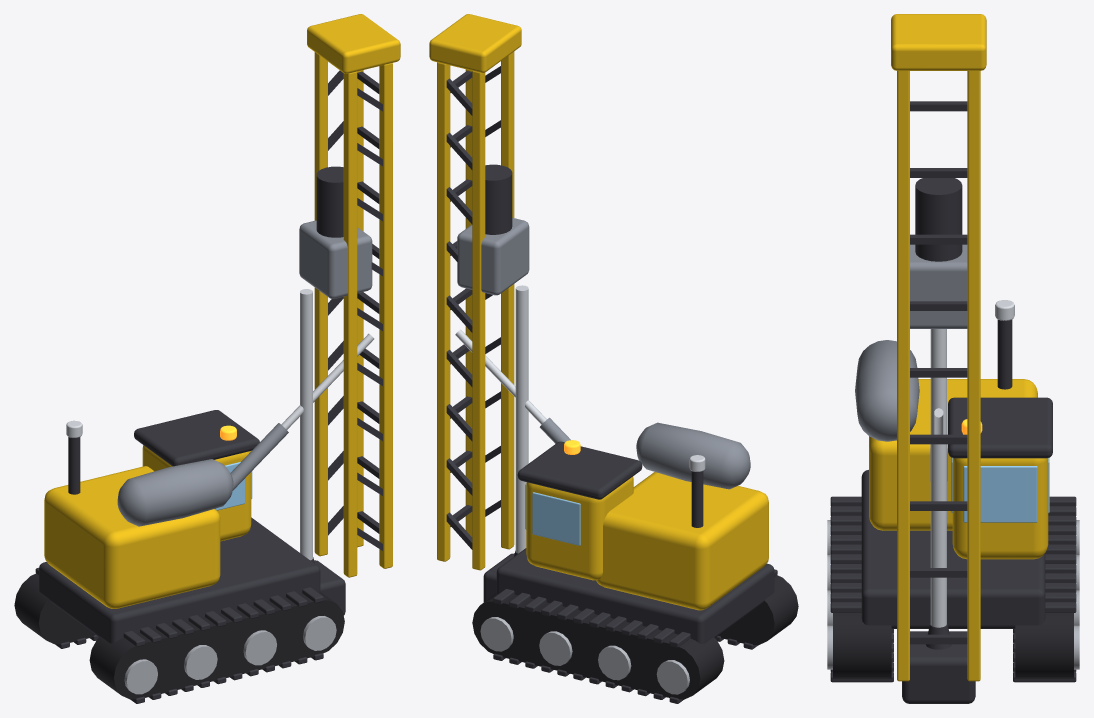
Rendered from vehicle_drill_rig.glb.
3 renders of one model, left to right at view 1: azimuth 30°, elevation 25°; view 2: azimuth 150°, elevation 25°; view 3: azimuth 270°, elevation 25°, orthographic. The views are drawn at different scales.
Visible parts, largest first — view 1: Engine, Deck, Track.Belt, Mast.Rail, Mast.Rail.001, Tank, Mast.Rail.002, Cab.Roof, Mast.Crown, Mast.RotaryHead, Mast.Rod, Track.Belt.001 (+16 smaller); view 2: Engine, Track.Belt.001, Deck, Mast.Rail.002, Mast.Rail.003, Mast.Rail, Tank, Cab.Shell, Cab.Roof, Mast.Crown, Mast.RotaryHead, Mast.Rod (+15 smaller); view 3: Deck, Mast.Rail.003, Mast.Rail.001, Engine, Mast.Rung, Mast.Crown, Cab.Roof, Cab.Shell, Tank, Mast.Rod, DustHood, Track.Pad (+9 smaller).
Part boxes in pixels (x1,y1,x2,y2): Engine: (44,466,220,608); Deck: (39,517,320,643); Track.Belt: (89,592,344,699); Mast.Rail: (343,71,357,577); Mast.Rail.001: (379,63,392,568); Tank: (117,459,233,526); Mast.Rail.002: (314,52,327,556); Cab.Roof: (134,410,259,466); Mast.Crown: (307,14,400,73); Mast.RotaryHead: (299,220,372,298); Mast.Rod: (300,289,312,560); Track.Belt.001: (14,573,95,644); Engine: (596,472,768,610); Track.Belt.001: (472,593,724,699); Deck: (496,548,774,644); Mast.Rail.002: (472,71,485,570); Mast.Rail.003: (437,62,450,561); Mast.Rail: (501,51,514,549); Tank: (636,422,750,489); Cab.Shell: (526,476,633,580); Cab.Roof: (517,441,642,499); Mast.Crown: (429,14,521,72); Mast.RotaryHead: (457,218,529,295); Mast.Rod: (515,285,528,553); Deck: (861,470,1045,628); Mast.Rail.003: (967,71,980,681); Mast.Rail.001: (897,71,909,681); Engine: (869,379,1037,530); Mast.Rung: (910,101,967,644); Mast.Crown: (891,14,986,70); Cab.Roof: (948,397,1052,458); Cab.Shell: (952,458,1048,559); Tank: (855,340,919,441); Mast.Rod: (930,329,946,627); DustHood: (902,631,975,703); Track.Pad: (830,496,861,612).
Size of the model in its own units: 2.97 by 5.23 by 1.72.
